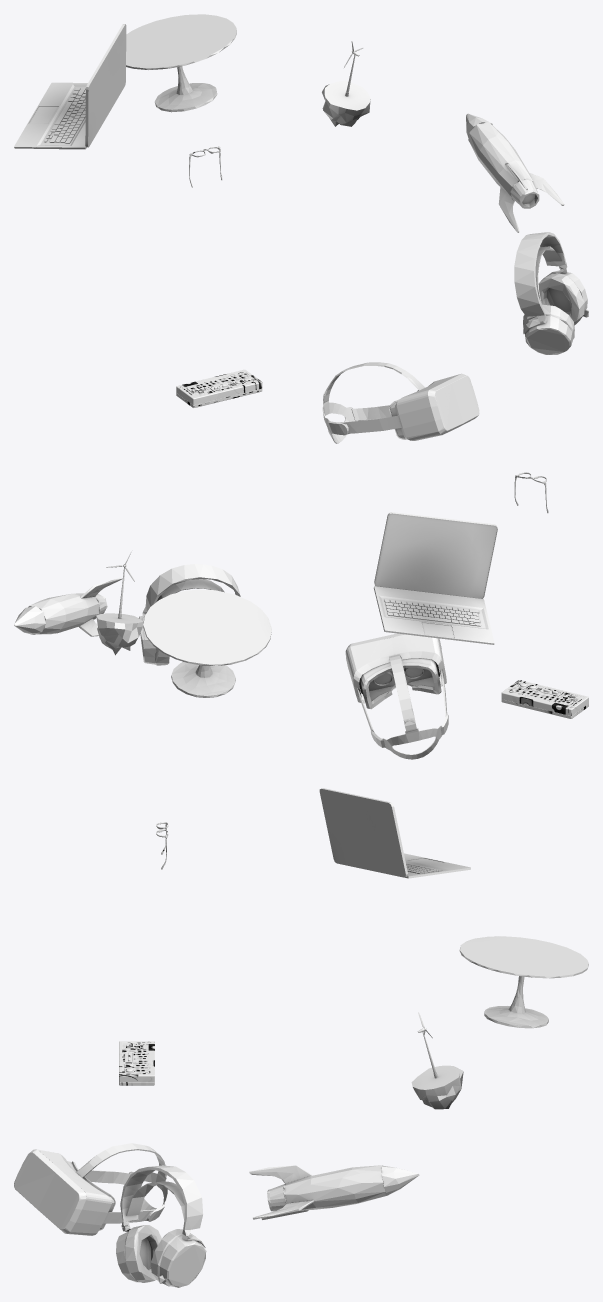
3 views of the same model, one above another, from view 1: azimuth 30°, elevation 25°; view 2: azimuth 150°, elevation 25°; view 3: azimuth 270°, elevation 25° (orthographic). The views are drawn at different scales.
Visible parts, largest first — view 1: VR Headset, Headphones, Notebook, Table, Rocket.003, Joystick, Roundcube.001; view 2: Notebook, Table, VR Headset, Rocket.003, Headphones, Joystick, Roundcube.001; view 3: VR Headset, Headphones, Notebook, Table, Rocket.003, Roundcube.001, Joystick.
Boxes of the visible parts, box(x1,y1,x2,y2) form: VR Headset: box(322, 362, 479, 443); Headphones: box(514, 232, 588, 354); Notebook: box(14, 24, 126, 149); Table: box(126, 14, 236, 112); Rocket.003: box(466, 113, 564, 232); Joystick: box(176, 369, 262, 407); Roundcube.001: box(322, 41, 370, 126); Notebook: box(373, 512, 497, 644); Table: box(143, 589, 271, 697); VR Headset: box(345, 633, 448, 759); Rocket.003: box(14, 577, 122, 636); Headphones: box(139, 564, 240, 665); Joystick: box(501, 680, 588, 718); Roundcube.001: box(96, 551, 143, 655); VR Headset: box(14, 1143, 168, 1235); Headphones: box(116, 1165, 206, 1287); Notebook: box(319, 788, 470, 878); Table: box(459, 936, 588, 1028); Rocket.003: box(249, 1165, 419, 1219); Roundcube.001: box(411, 1012, 463, 1109); Joystick: box(119, 1041, 154, 1085).
Bounding box in the file's own units: 21.61 × 15.2 × 21.78.
Materials: 6 (6 with a texture image).
